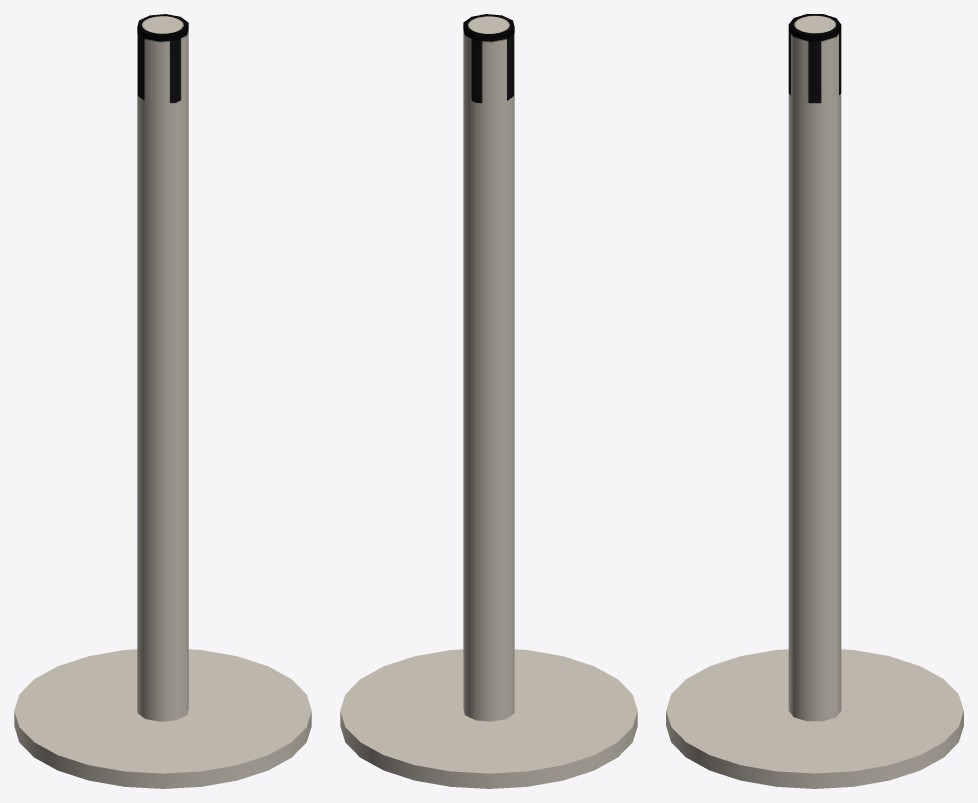
File: FloorSignPole.fbx
3 views of the same model, side by side, from view 1: azimuth 30°, elevation 25°; view 2: azimuth 150°, elevation 25°; view 3: azimuth 270°, elevation 25° (orthographic).
Visible parts, largest first — view 1: Personenleitsystem; view 2: Personenleitsystem; view 3: Personenleitsystem.
Boxes of the visible parts, x1,y1,x2,y2 form: Personenleitsystem: (14, 14, 311, 788); Personenleitsystem: (340, 14, 637, 788); Personenleitsystem: (666, 14, 963, 788).
Bounding box in the file's own units: 35 × 91 × 35.
